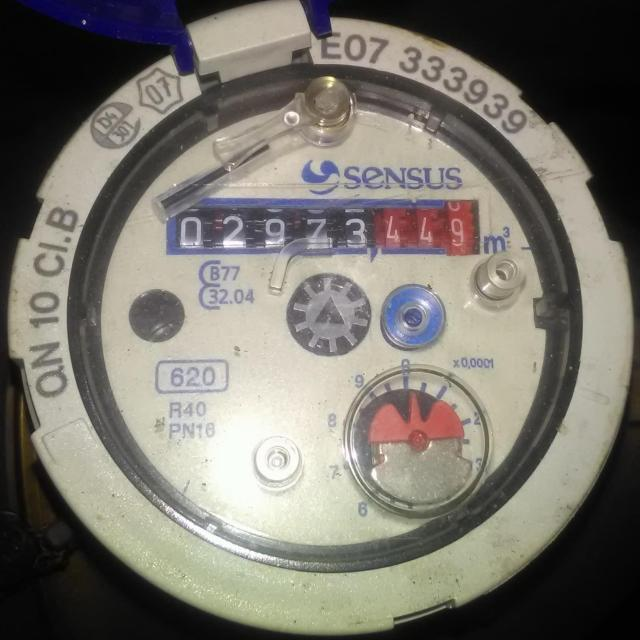gaz_meter: (64, 60, 585, 561)
indication: (165, 198, 481, 257)
